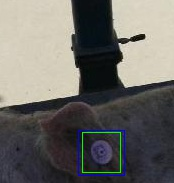text: (82, 132, 120, 172)
